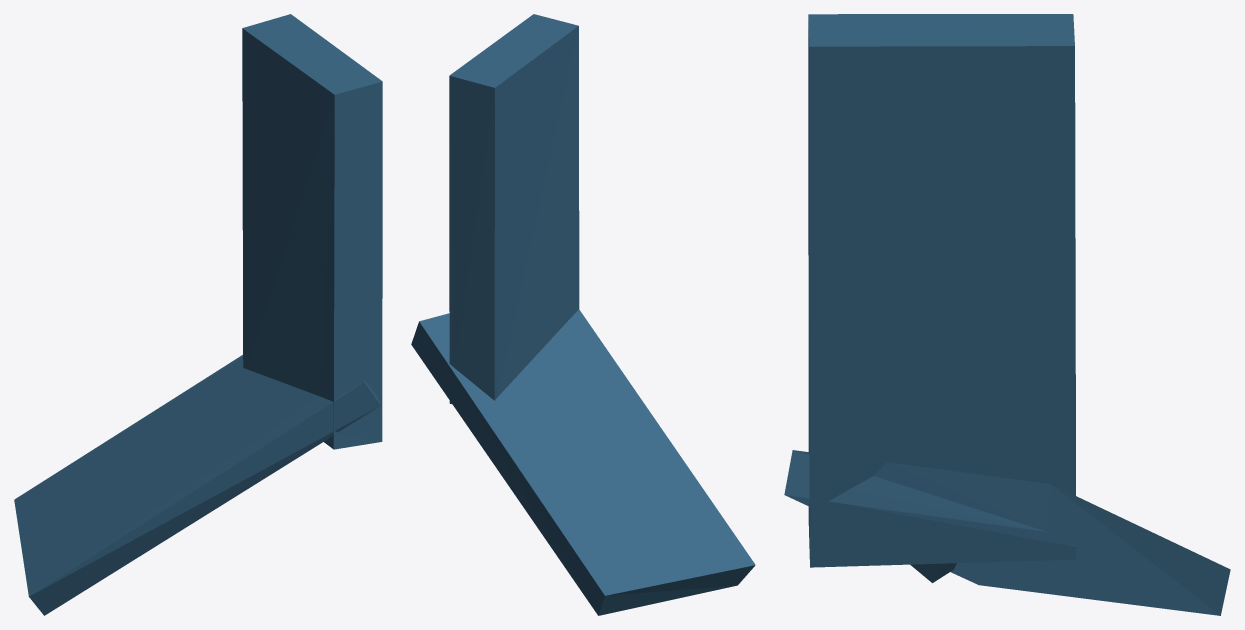
The picture shows the model from 3 angles, left to right: view 1: azimuth 30°, elevation 25°; view 2: azimuth 150°, elevation 25°; view 3: azimuth 270°, elevation 25°; orthographic projection. The views are drawn at different scales.
Parts seen in each view (by area): view 1: 635_Cube.2556; view 2: 635_Cube.2556; view 3: 635_Cube.2556.
Boxes of the visible parts, x1,y1,x2,y2 form: 635_Cube.2556: [14, 14, 382, 615]; 635_Cube.2556: [411, 14, 755, 615]; 635_Cube.2556: [784, 14, 1230, 615].
Bounding box in the file's own units: 12.3 × 17.19 × 9.44.
